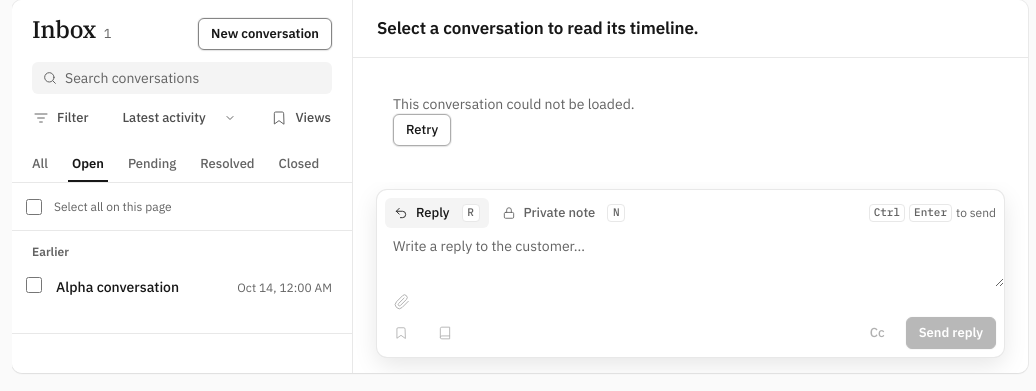
Scenario: a ticket whose detail fails to load says so and Retry asks for it again
The width and height of the screenshot is (1036, 391).
Expected: the message shows "could not be loaded", [393,95,635,113]
Click the button "Retry": (422, 130) [393,114,451,146]
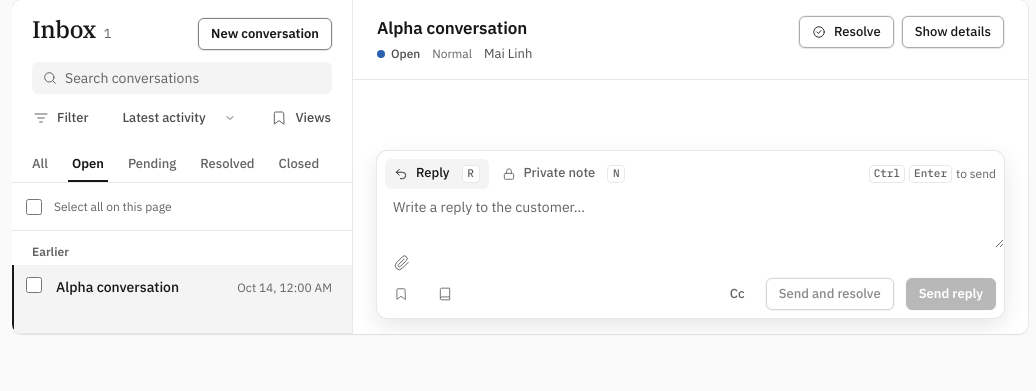
Expected: the heading named "Bravo conversation" is shown, [377,17,527,39]
Now the message "This conversation could not be loaded. Retry" is gone
